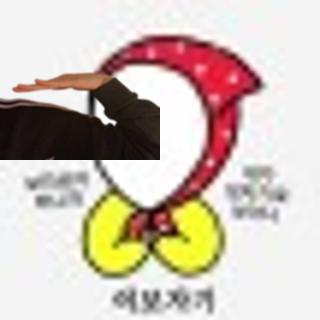Wait: (9, 67, 113, 97)
